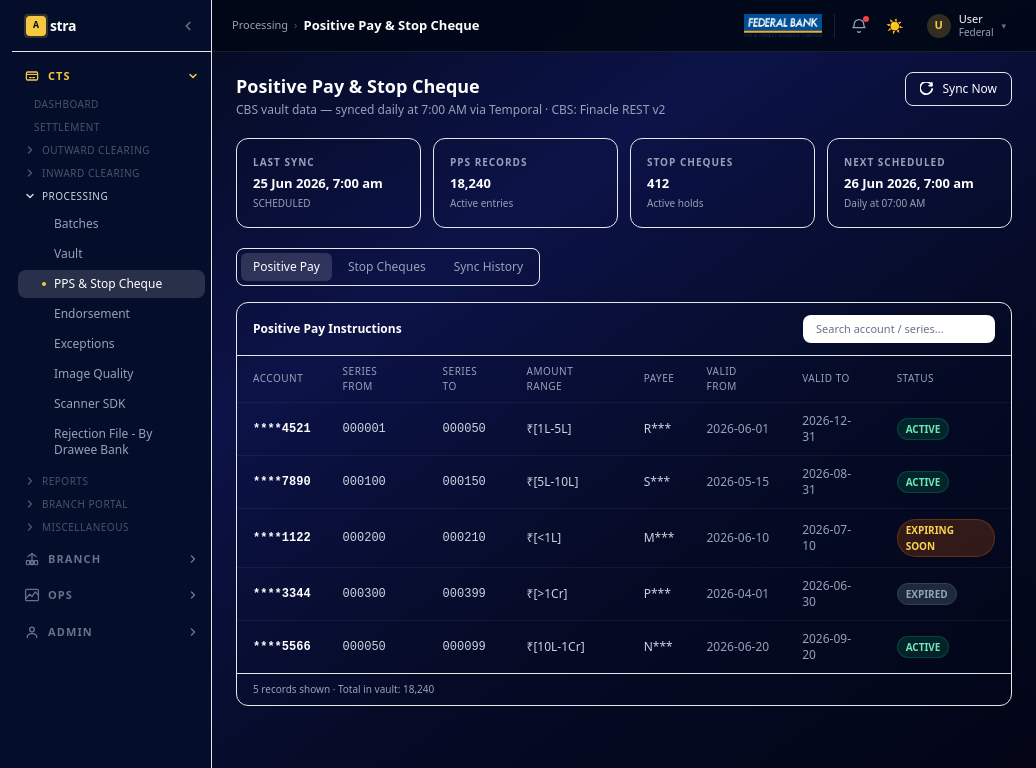
Test: CTSVaultSync › switches to Sync History tab
Click the button "Sync History" at [488, 266], box [442, 252, 535, 280]
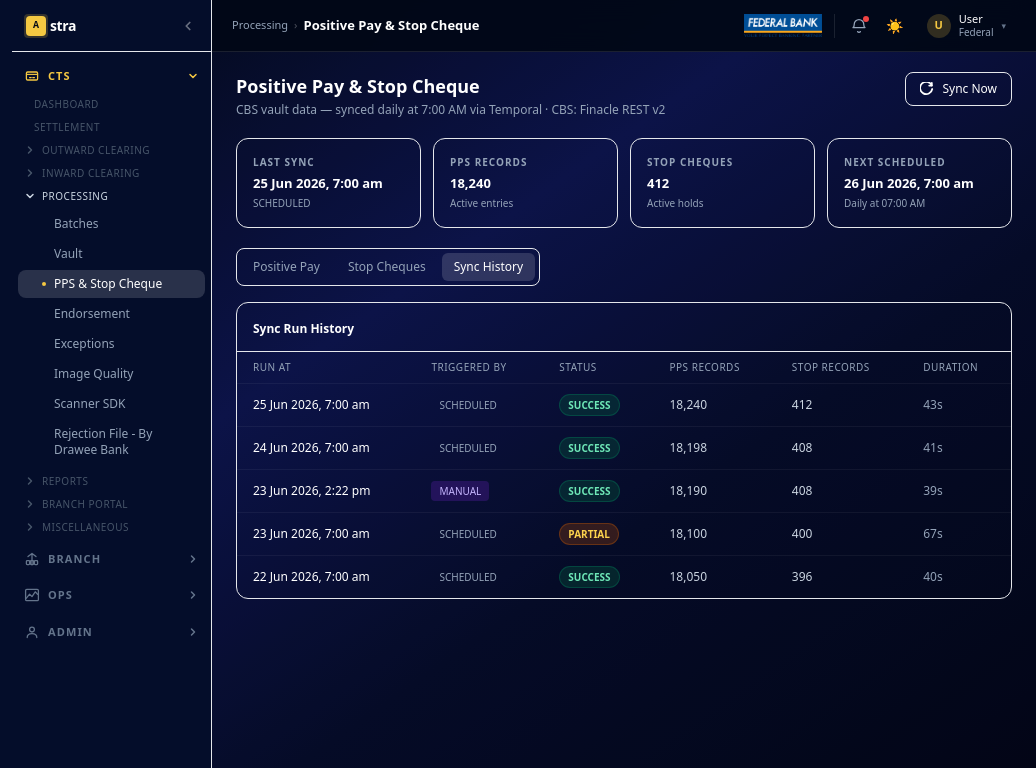
Now the text "Sync Run History" is shown, box [253, 320, 354, 336]
Now the column heading "Triggered By" is shown, box [415, 352, 543, 383]
